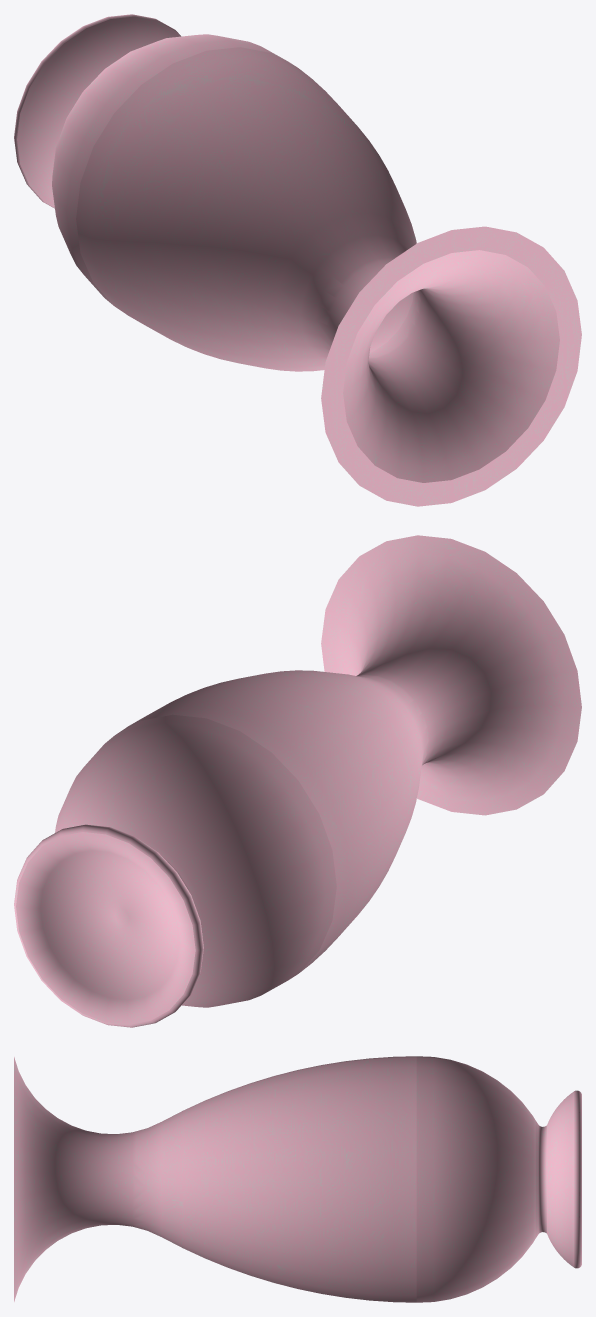
Rendered from model_align.obj.
3 views of the same model, one above another, from view 1: azimuth 30°, elevation 25°; view 2: azimuth 150°, elevation 25°; view 3: azimuth 270°, elevation 25° (orthographic). The views are drawn at different scales.
Parts seen in each view (by area): view 1: mesh1_mesh1-geometry; view 2: mesh1_mesh1-geometry; view 3: mesh1_mesh1-geometry.
Part boxes in pixels (x1,y1,x2,y2): mesh1_mesh1-geometry: [14, 14, 581, 506]; mesh1_mesh1-geometry: [14, 535, 581, 1027]; mesh1_mesh1-geometry: [14, 1056, 581, 1302].
Bounding box in the file's own units: 0.1035 × 0.1035 × 0.2375.
